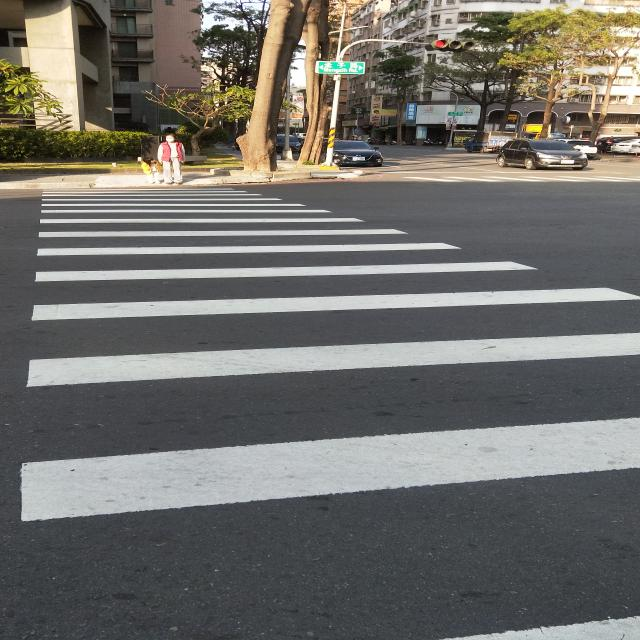person: (158, 134, 184, 185), (140, 158, 160, 185)
zebra crossing: (22, 186, 640, 529), (402, 177, 640, 181)
